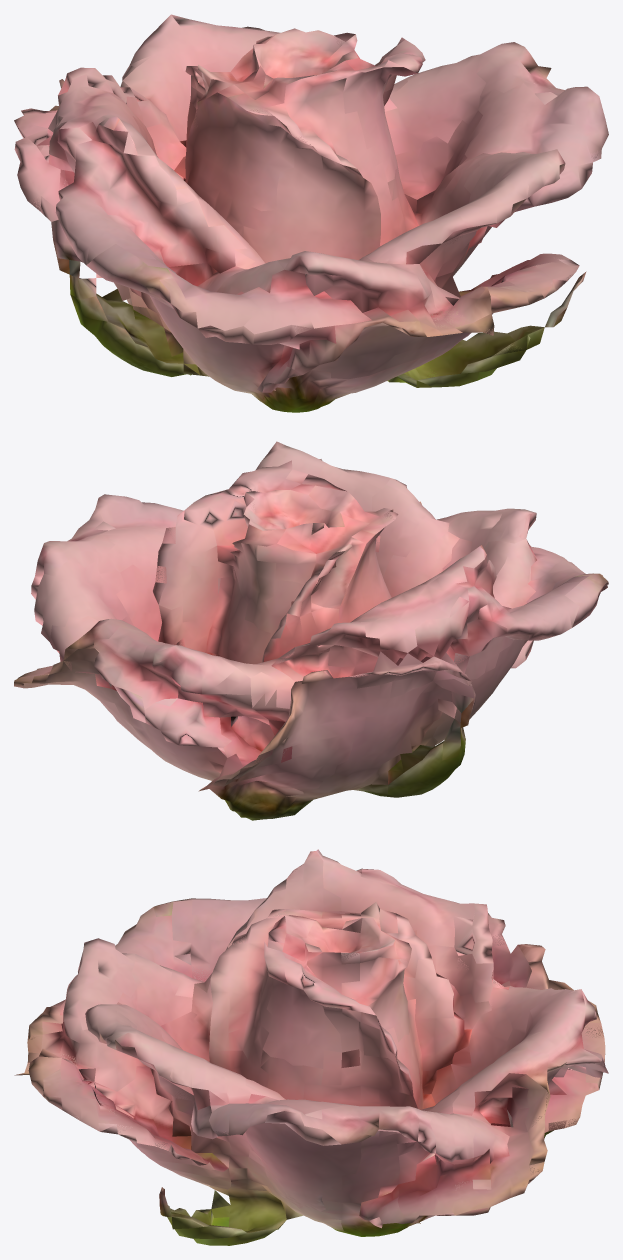
3 views of the same model, one above another, from view 1: azimuth 30°, elevation 25°; view 2: azimuth 150°, elevation 25°; view 3: azimuth 270°, elevation 25° (orthographic). The views are drawn at different scales.
Visible parts, largest first — view 1: 0223e8e9; view 2: 0223e8e9; view 3: 0223e8e9.
Part boxes in pixels (box(x1,y1,x2,y2)): 0223e8e9: box(14, 14, 608, 412); 0223e8e9: box(14, 441, 608, 820); 0223e8e9: box(14, 849, 608, 1245).
Size of the model in its own units: 0.0751 by 0.0422 by 0.0802.
Materials: 1 (1 with a texture image).
